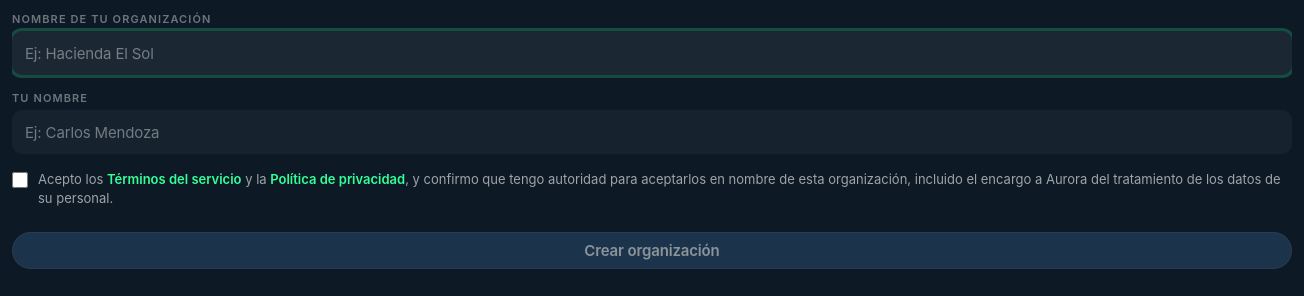
Test case: <FincaForm /> consent › submit button stays disabled until the checkbox is checked
In the field labelled "Nombre de tu organización": (652, 53) [12,31,1292,75], type "Finca Test"
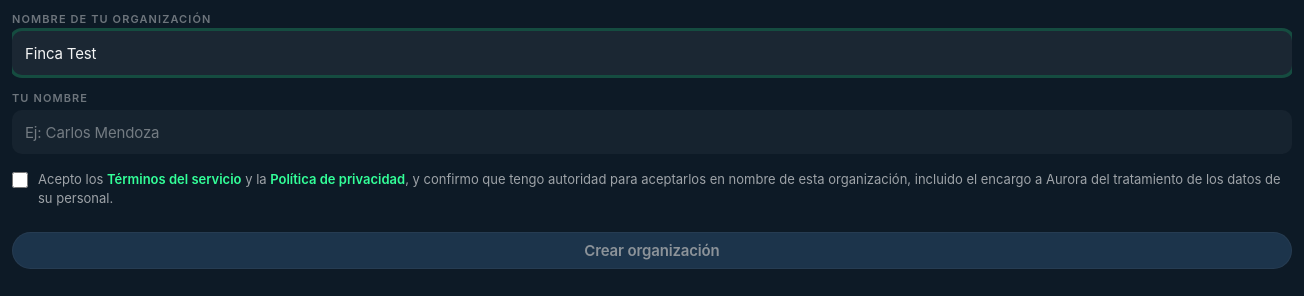
In the field labelled "Tu nombre": (652, 132) [12,110,1292,154], type "Ana Mora"
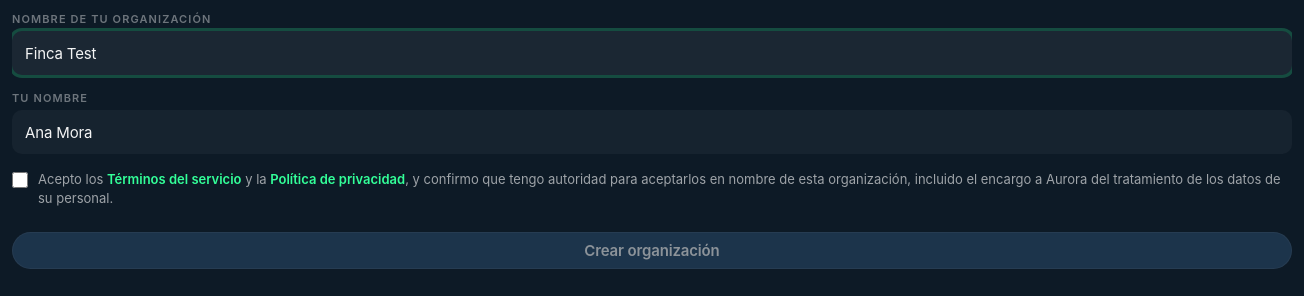
Expected: the button "Crear organización" is disabled, [12,232,1292,269]
Click the checkbox: click(20, 180) [12,172,28,188]
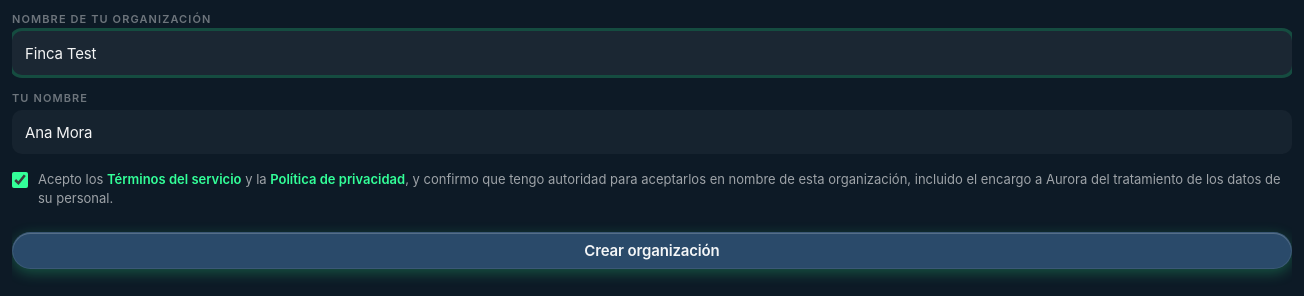
Expected: the button "Crear organización" is enabled, [12,232,1292,269]
